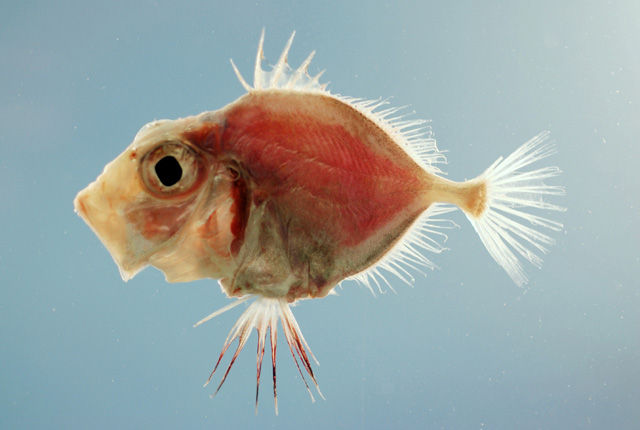fish: (73, 25, 568, 414)
